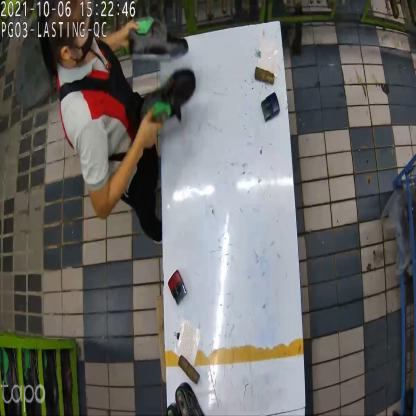shoes: (124, 20, 198, 126)
stamp: (262, 90, 280, 124), (170, 271, 188, 303)
